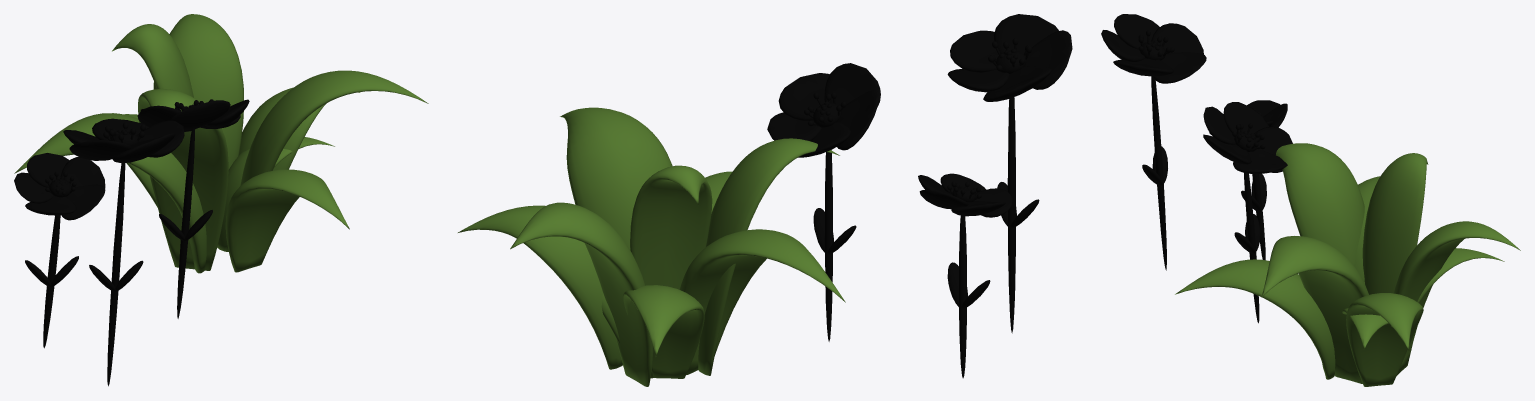
File: SM_Painted_Violets.fbx
3 views of the same model, side by side, from view 1: azimuth 30°, elevation 25°; view 2: azimuth 150°, elevation 25°; view 3: azimuth 270°, elevation 25° (orthographic). The views are drawn at different scales.
Parts seen in each view (by area): view 1: SM_Painted_Violets; view 2: SM_Painted_Violets; view 3: SM_Painted_Violets.
Boxes of the visible parts, x1=… form: SM_Painted_Violets: x1=14, y1=14, x2=428, y2=386; SM_Painted_Violets: x1=458, y1=14, x2=1072, y2=386; SM_Painted_Violets: x1=1101, y1=14, x2=1520, y2=386.
Bounding box in the file's own units: 49.12 × 29.84 × 46.2.
